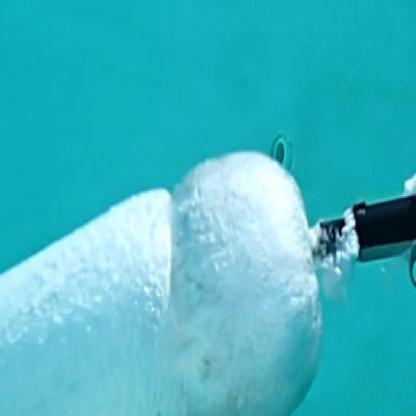gun: (341, 140, 415, 414)
